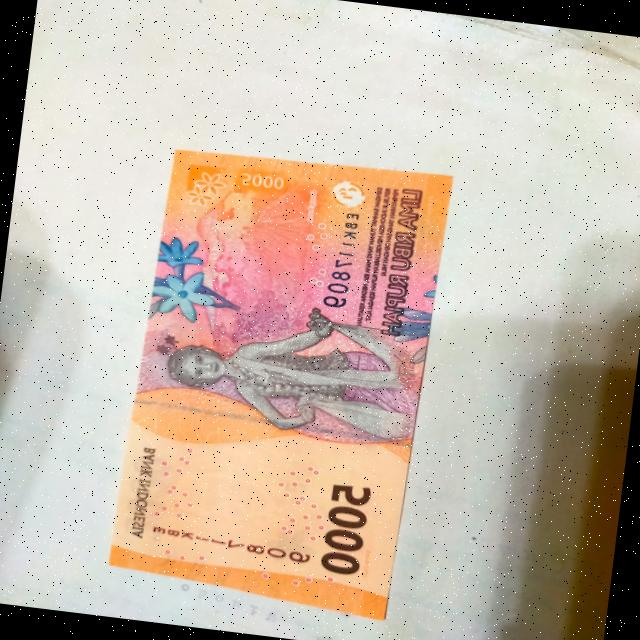5K: (96, 127, 494, 630)
